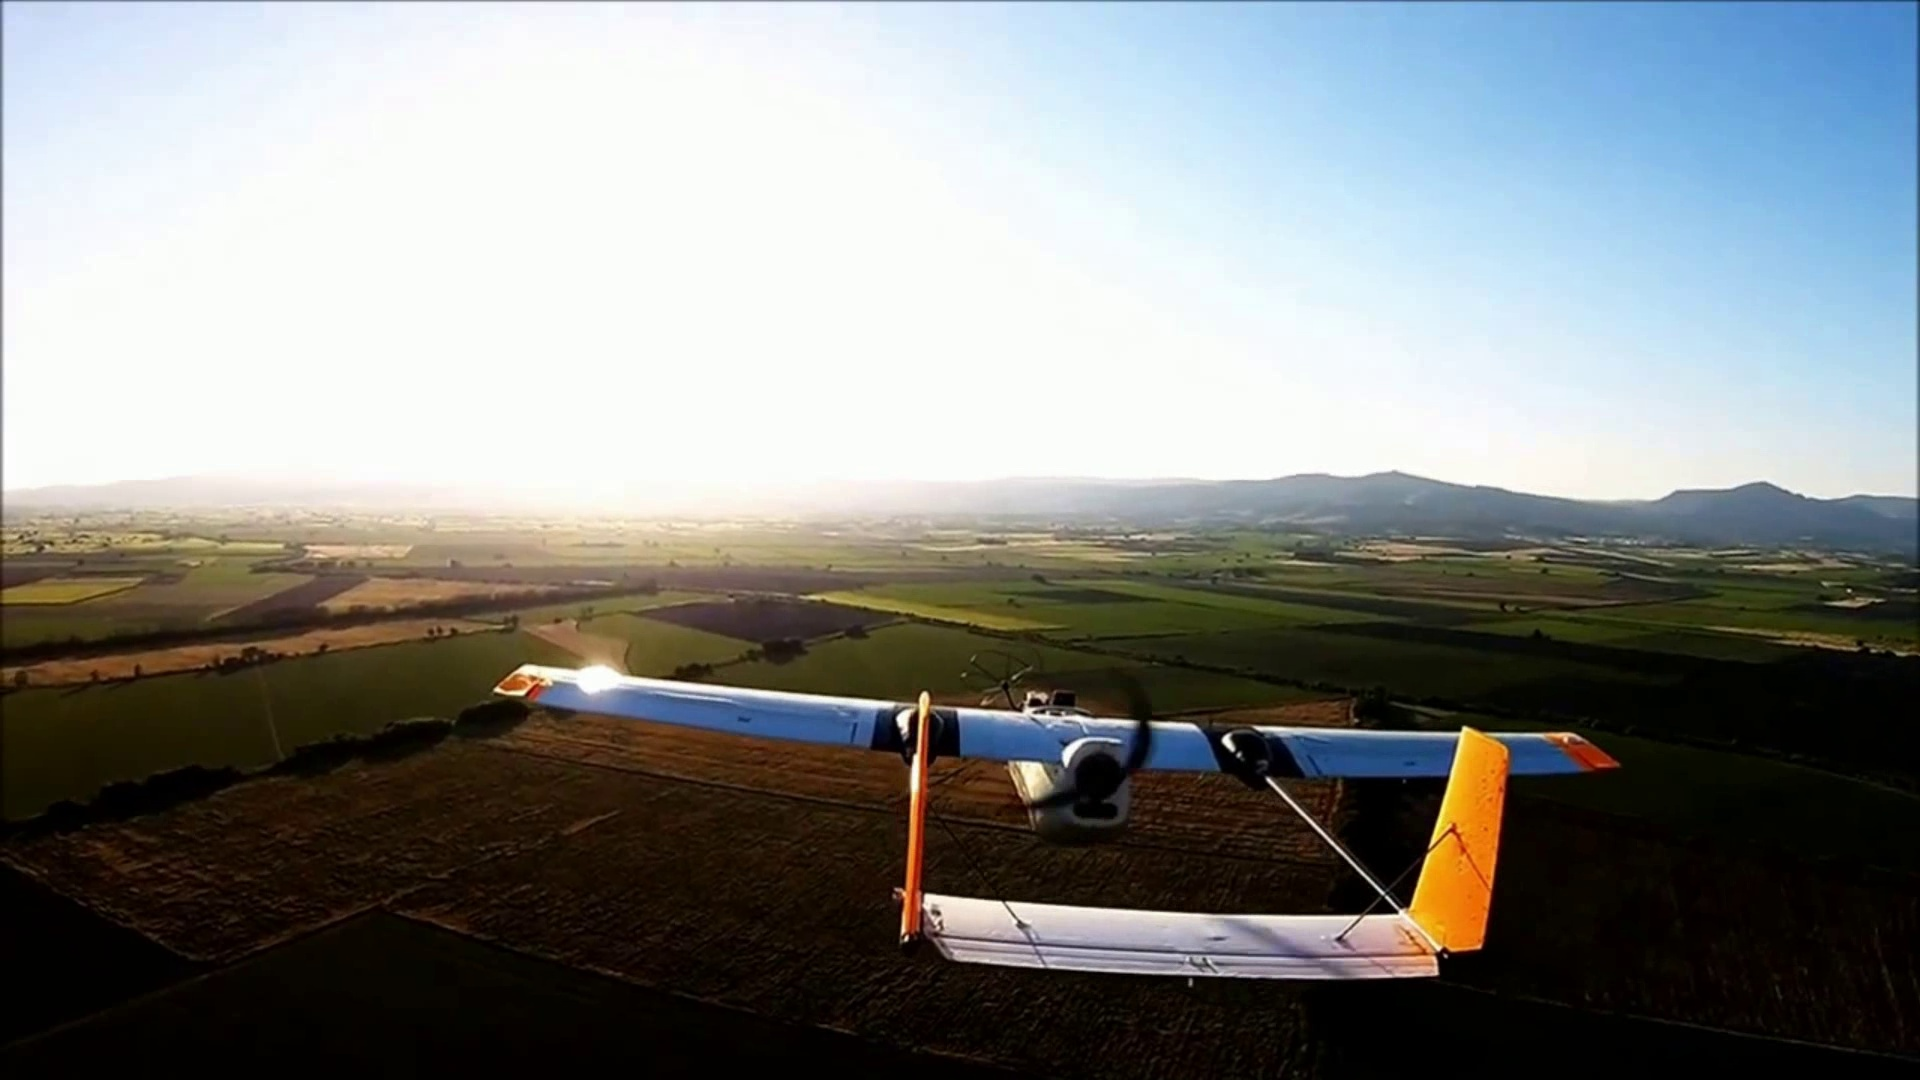airplane: (491, 659, 1623, 984), (492, 640, 1625, 844)
